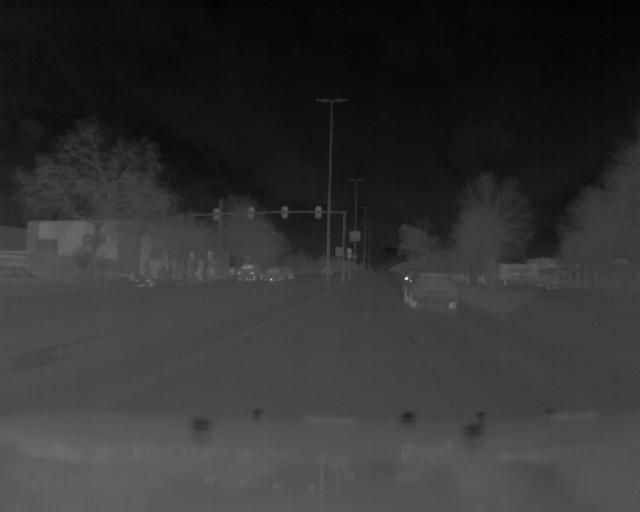car: (400, 263, 462, 313), (236, 261, 263, 283), (267, 263, 285, 284)
